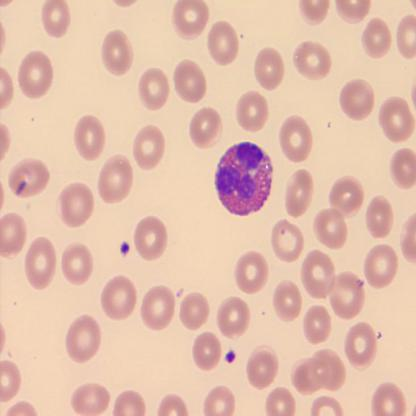Eosinophil: (211, 139, 274, 216)
